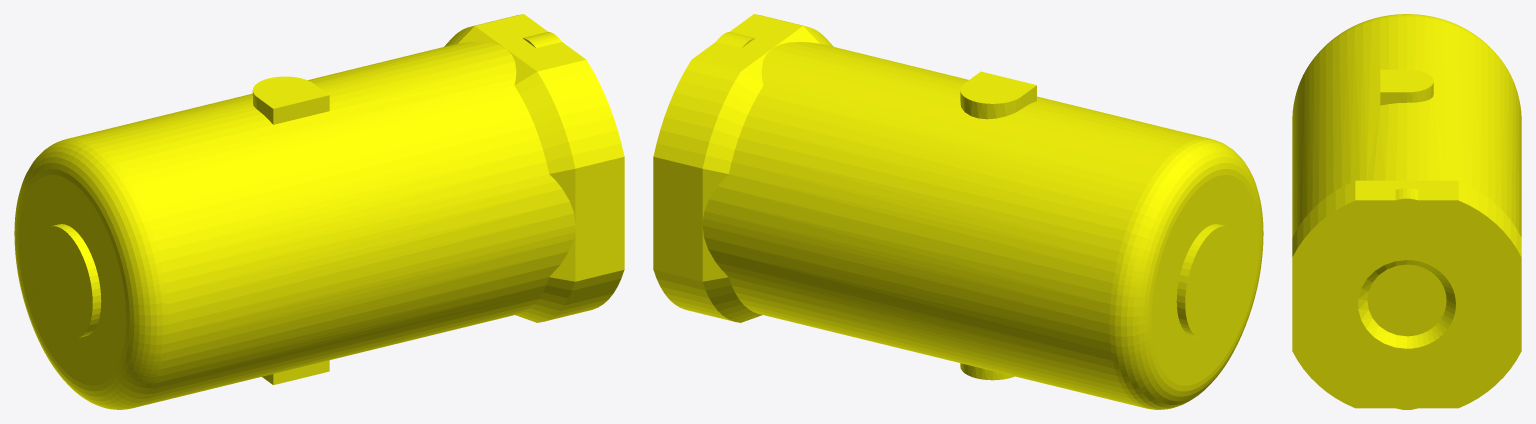
3 views of the same model, side by side, from view 1: azimuth 30°, elevation 25°; view 2: azimuth 150°, elevation 25°; view 3: azimuth 270°, elevation 25° (orthographic). The views are drawn at different scales.
Visible parts, largest first — view 1: node; view 2: node; view 3: node.
Boxes of the visible parts, left/top/right/bottom form: node: left=14, top=14, right=624, bottom=409; node: left=653, top=14, right=1263, bottom=409; node: left=1292, top=14, right=1521, bottom=409.
Bounding box in the file's own units: 700 × 376 × 342.
